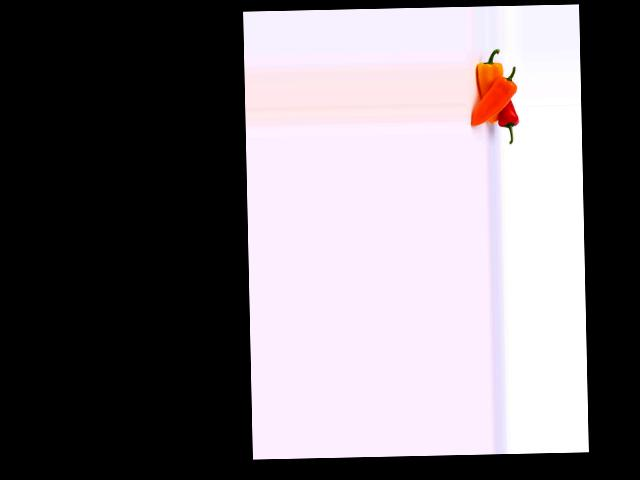bell_pepper: (470, 46, 506, 105)
